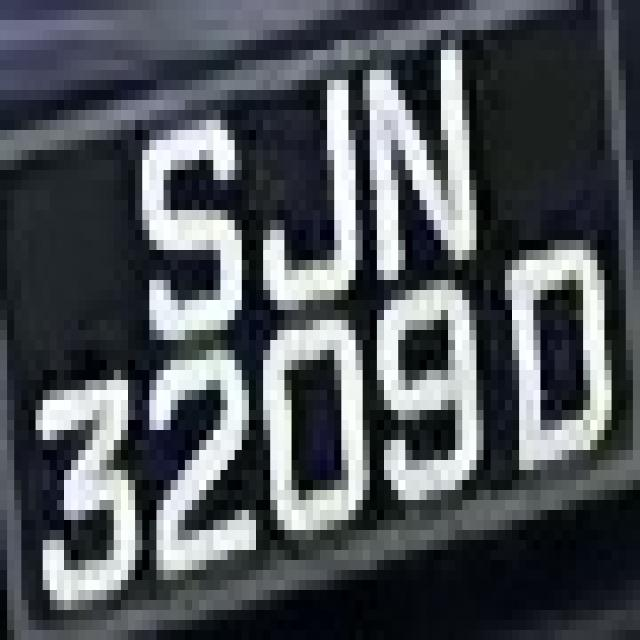0: (256, 310, 384, 540)
2: (128, 320, 270, 600)
3: (15, 350, 156, 640)
9: (370, 250, 498, 520)
D: (490, 240, 626, 490)
J: (235, 40, 377, 330)
N: (356, 30, 498, 290)
S: (128, 90, 249, 380)
